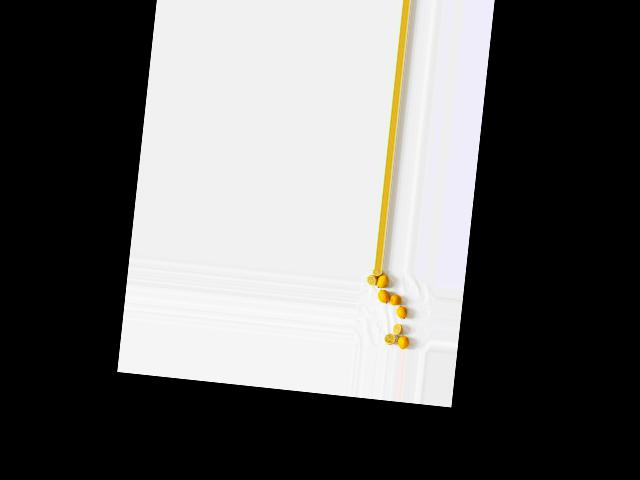lemon: (375, 272, 391, 293)
